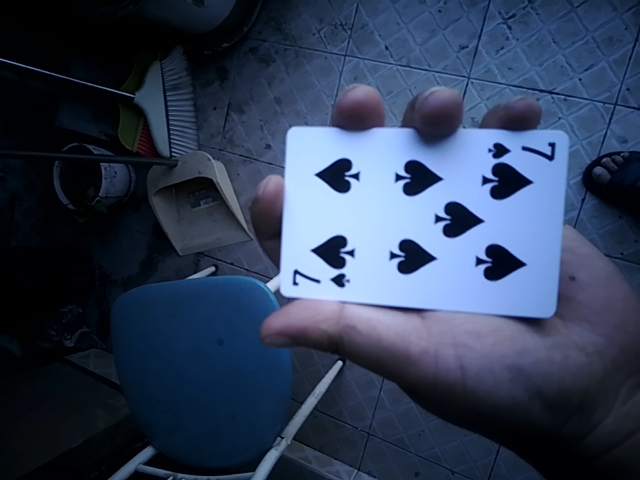ht 7: (263, 125, 583, 322)
